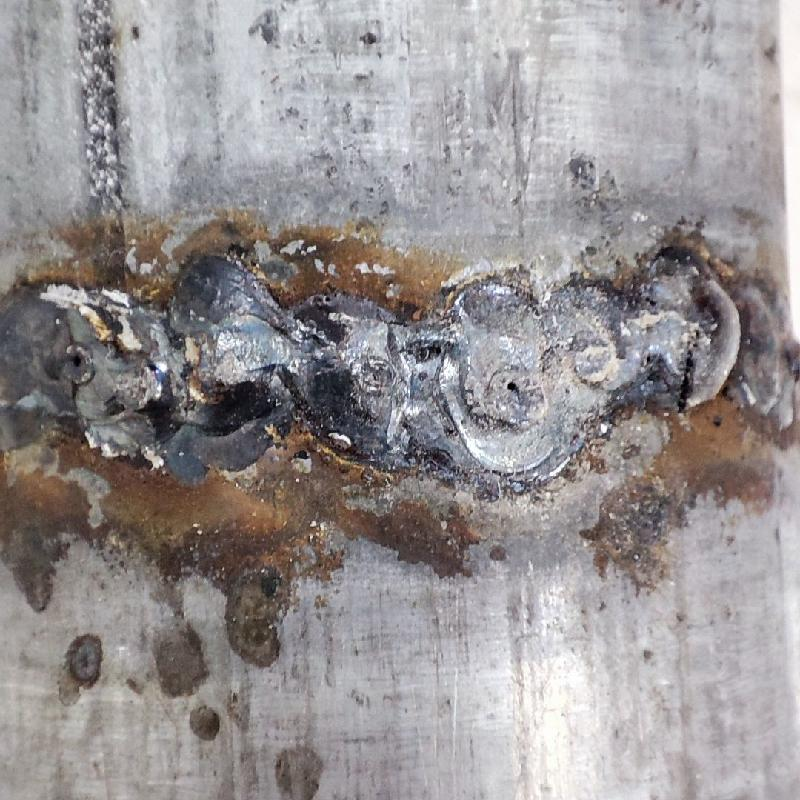Not_fully_soldered: (435, 255, 672, 470)
Surface_pores: (496, 365, 534, 410), (59, 338, 96, 382)
wrong_size: (0, 263, 430, 469), (678, 256, 799, 440)
